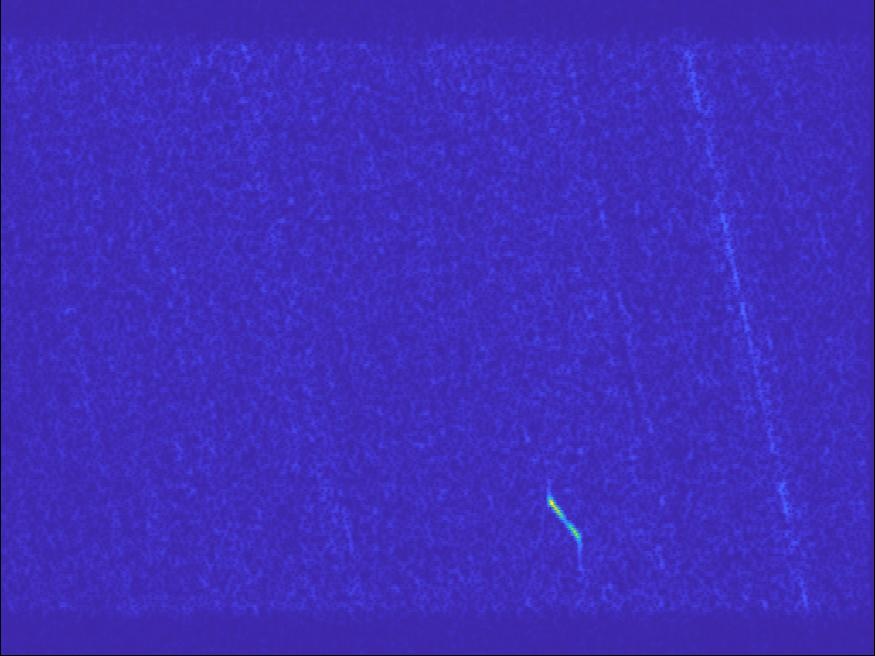Interference: (315, 122, 503, 294), (302, 499, 428, 585), (410, 298, 525, 355)
